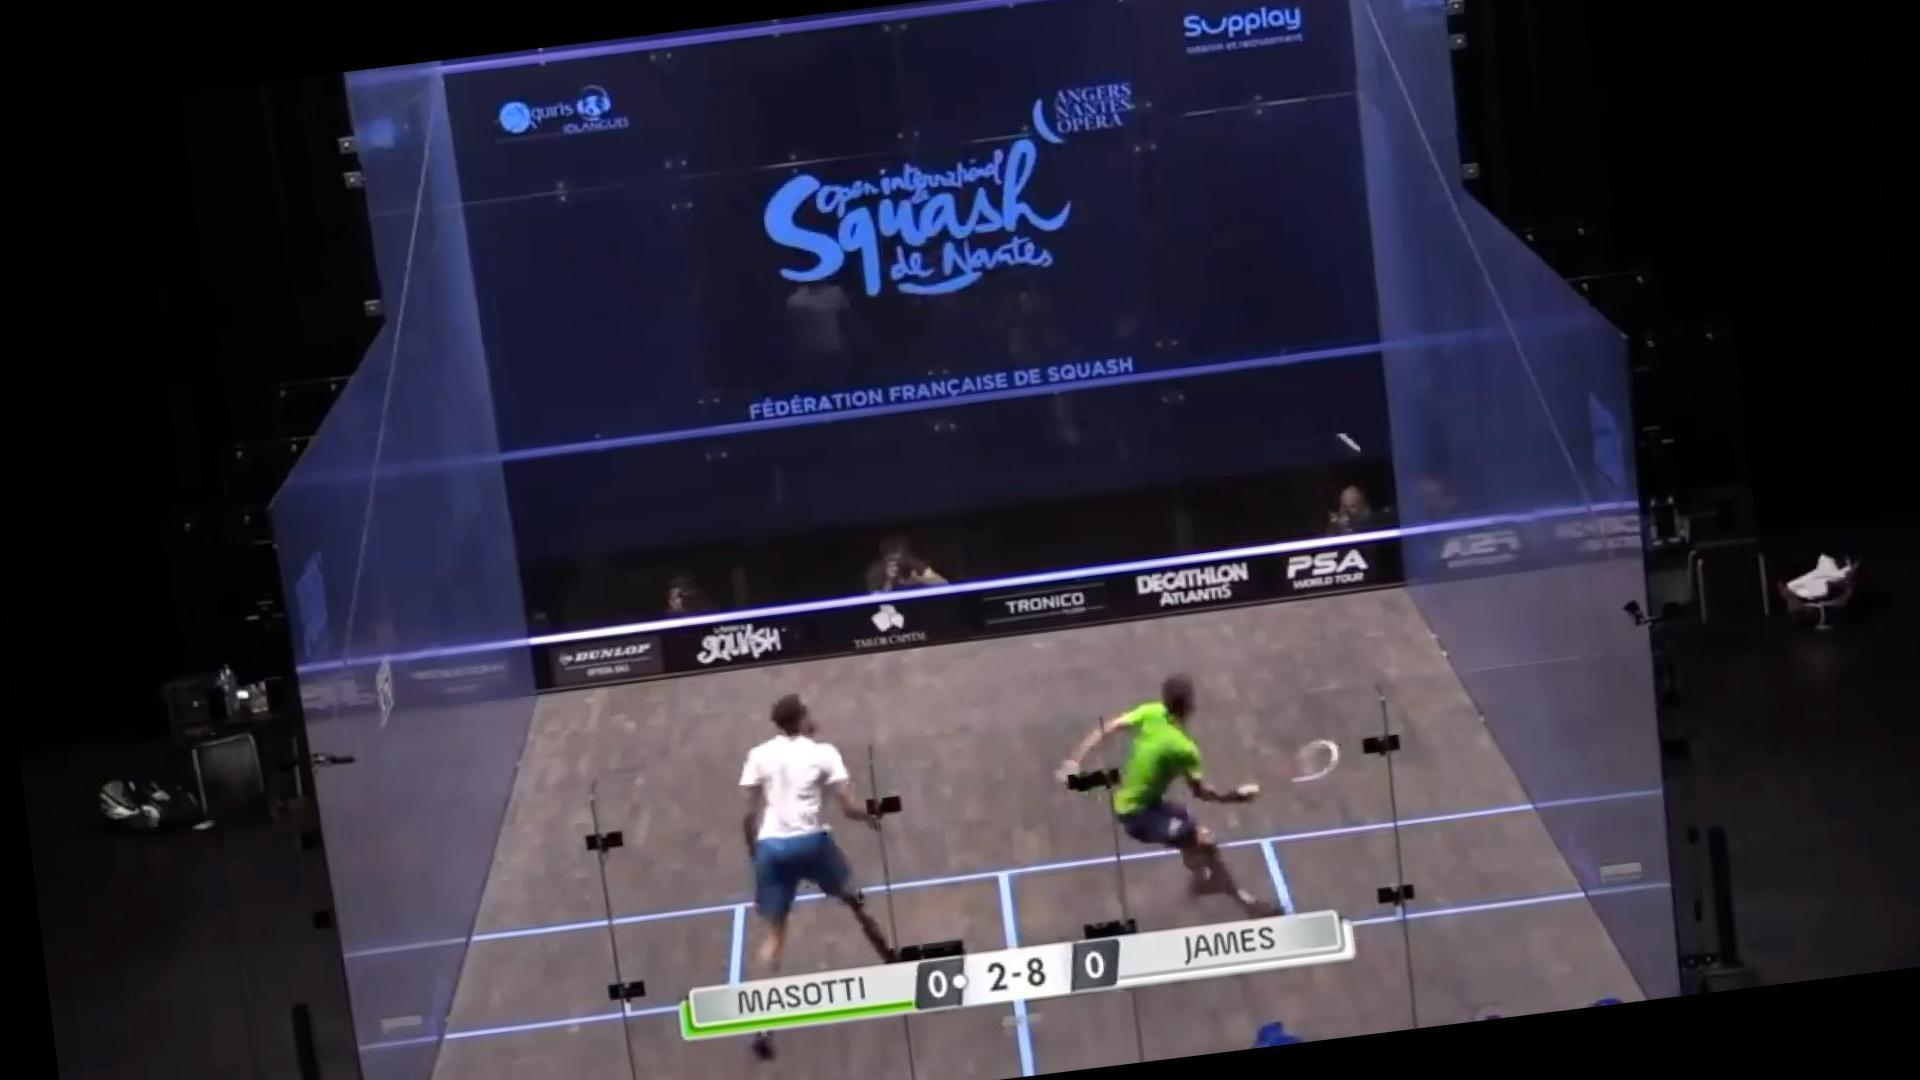Squash-Ball: (1320, 414, 1377, 475)
